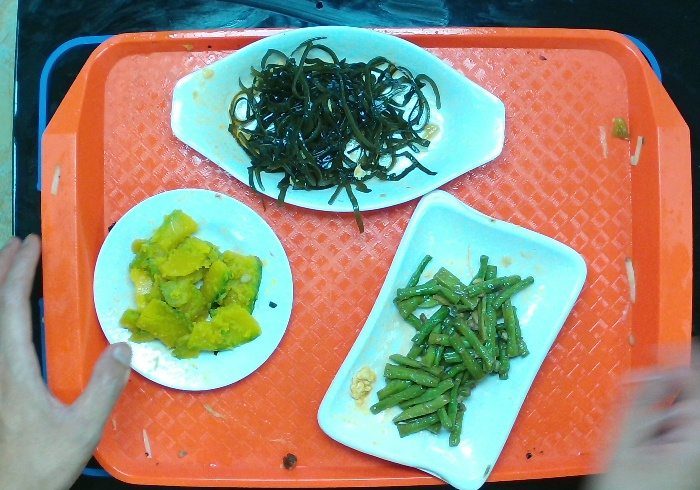RJxy-Si_Fang_Ao_Bian_Wan: (316, 189, 589, 490)
RJxy-Xiao_Yuan_Die: (92, 186, 294, 393)
RJxy-Yu_Pan: (169, 26, 510, 212)
